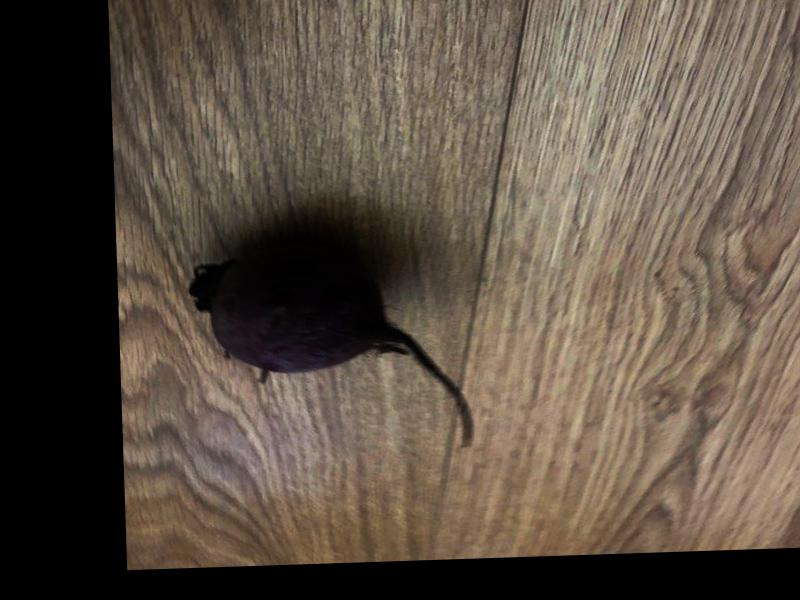Beet: (193, 237, 478, 455)
